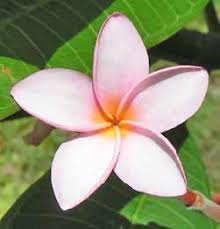frangipani: (8, 13, 209, 209)
